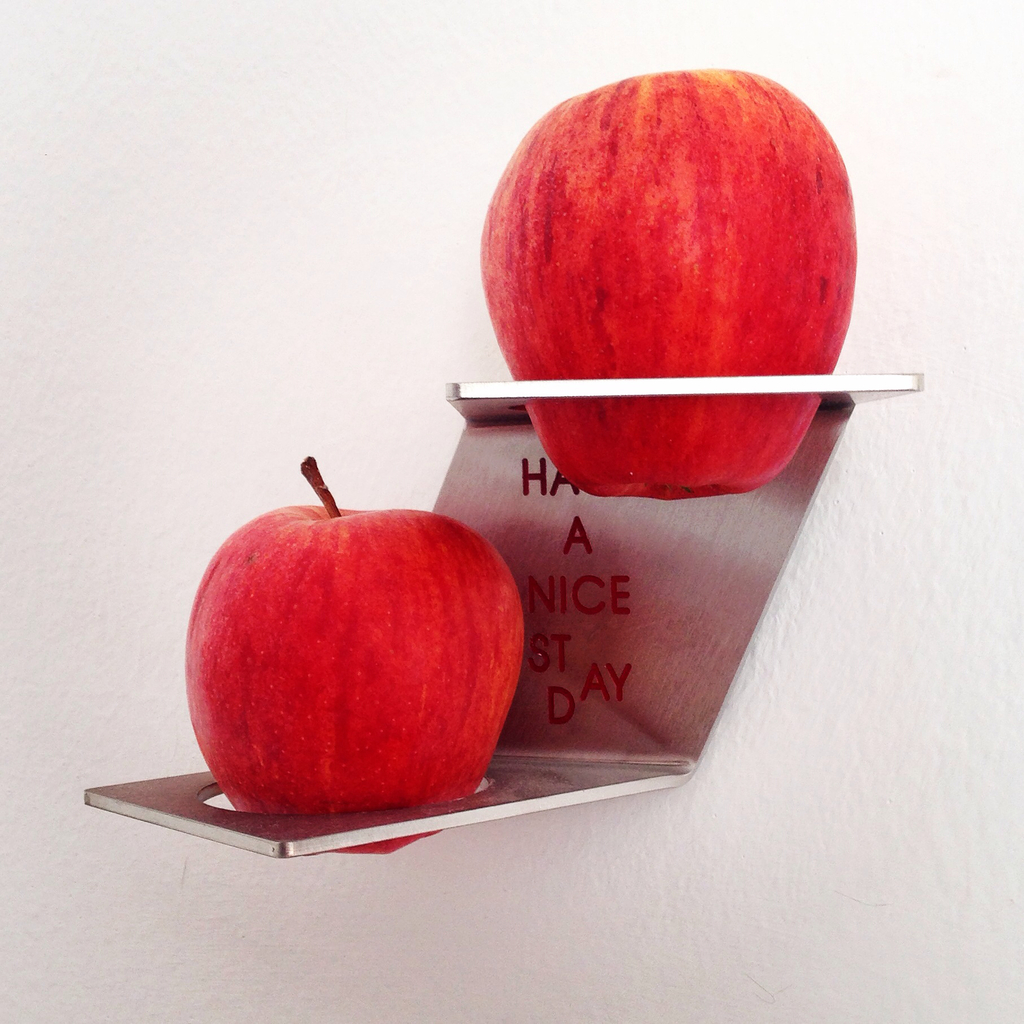Apple: (499, 46, 862, 442), (184, 455, 528, 854)
